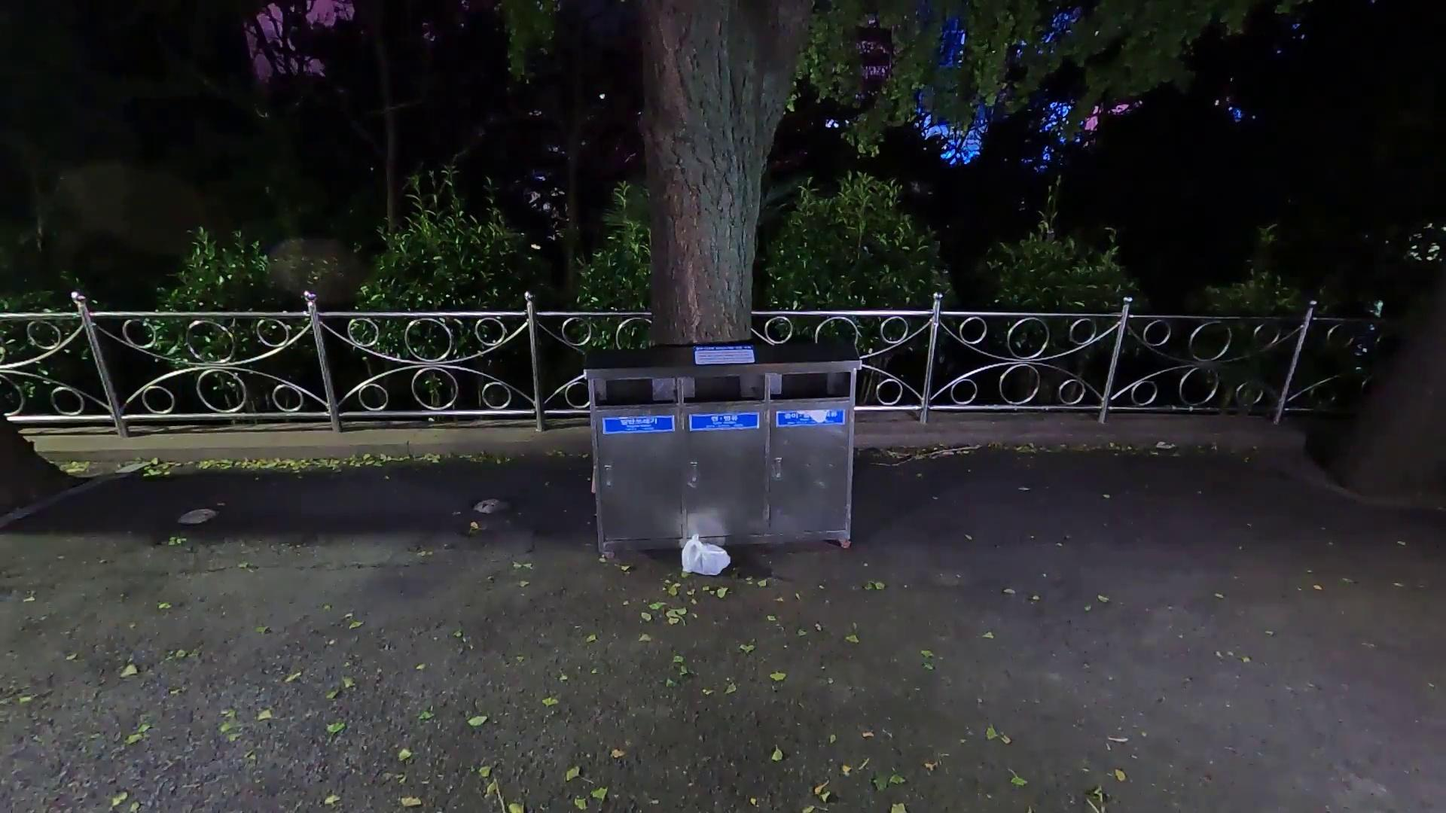trash: (681, 535, 730, 575)
